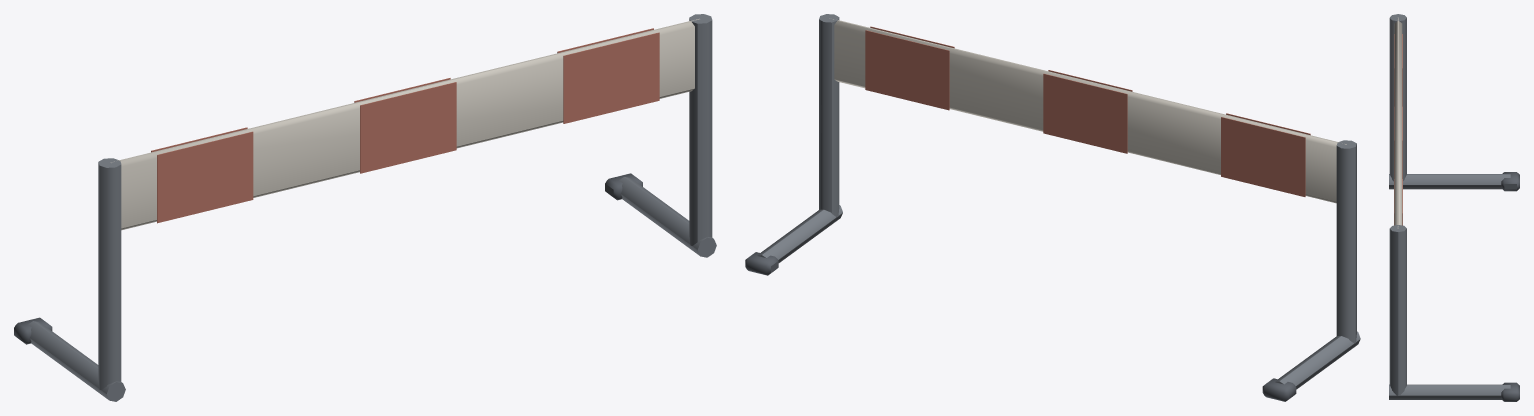
File: prop_sports_hurdle.glb
3 renders of one model, left to right at view 1: azimuth 30°, elevation 25°; view 2: azimuth 150°, elevation 25°; view 3: azimuth 270°, elevation 25°, orthographic. The views are drawn at different scales.
Parts seen in each view (by area): view 1: hurdle; view 2: hurdle; view 3: hurdle.
Part boxes in pixels (x1,y1,x2,y2): hurdle: (14, 14, 716, 401); hurdle: (745, 14, 1360, 401); hurdle: (1389, 14, 1519, 401).
Size of the model in its own units: 1.68 by 0.606 by 0.42.
